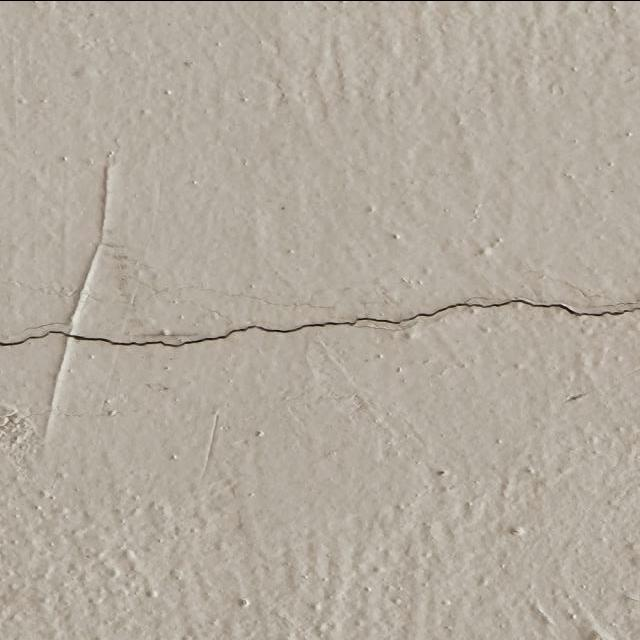SurfaceCrack: (1, 253, 640, 389)
